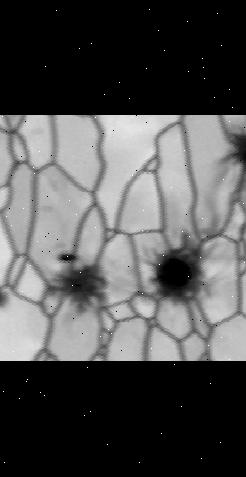good_void: (139, 225, 228, 322), (44, 262, 113, 318), (215, 126, 246, 205), (56, 251, 81, 263), (0, 286, 12, 309), (28, 124, 45, 136)
